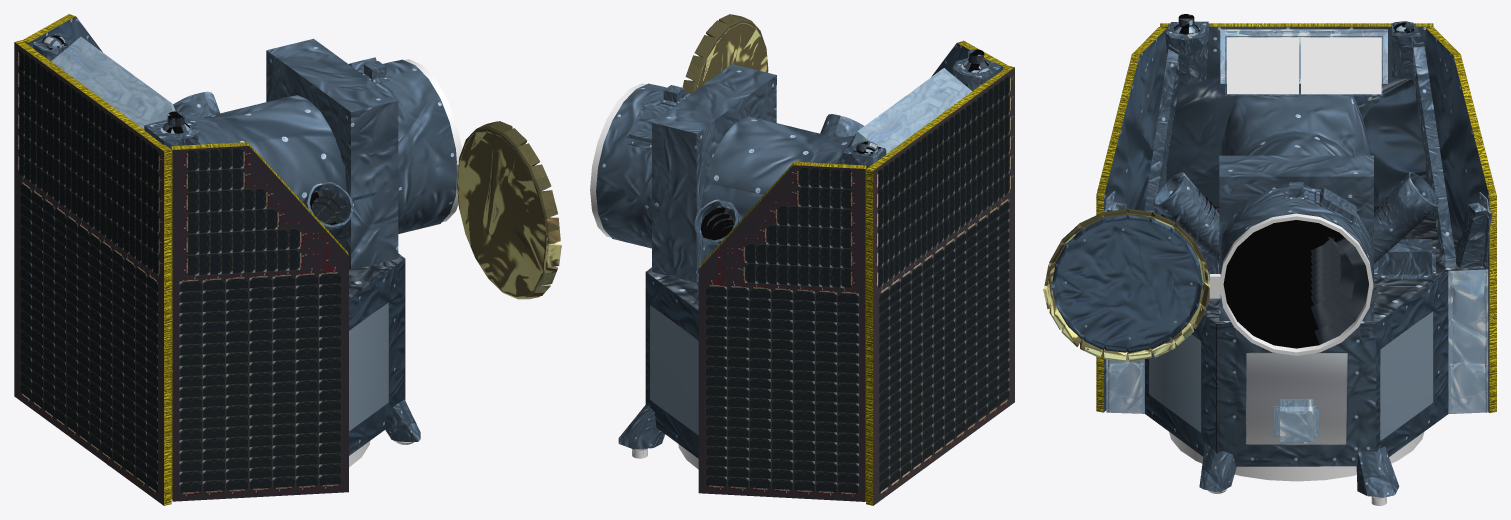
The model's file is cheops.fbx.
The picture shows the model from 3 angles, left to right: view 1: azimuth 30°, elevation 25°; view 2: azimuth 150°, elevation 25°; view 3: azimuth 270°, elevation 25°; orthographic projection. The views are drawn at different scales.
Visible parts, largest first — view 1: CHEOPS_LowPoly polySurface3, CHEOPS_LowPoly polySurface19 polySurface15, CHEOPS_LowPoly pCube19, CHEOPS_LowPoly group4 pCylinder39 polySurface12, CHEOPS_LowPoly pCube32 polySurface22, CHEOPS_LowPoly polySurface15 polySurface17, CHEOPS_LowPoly pCylinder7, CHEOPS_LowPoly pCylinder42, CHEOPS_LowPoly pCylinder19, CHEOPS_LowPoly polySurface15 polySurface16; view 2: CHEOPS_LowPoly polySurface3, CHEOPS_LowPoly polySurface19 polySurface15, CHEOPS_LowPoly pCube19, CHEOPS_LowPoly pCube32 polySurface22, CHEOPS_LowPoly polySurface15 polySurface17, CHEOPS_LowPoly group4 pCylinder39 polySurface12, CHEOPS_LowPoly polySurface15 polySurface16, CHEOPS_LowPoly pCylinder7, CHEOPS_LowPoly pCylinder19, CHEOPS_LowPoly pCylinder35, CHEOPS_LowPoly pCylinder45; view 3: CHEOPS_LowPoly pCube19, CHEOPS_LowPoly polySurface3, CHEOPS_LowPoly pCube32 polySurface22, CHEOPS_LowPoly polySurface11 group4 pCylinder39, CHEOPS_LowPoly pCylinder33, CHEOPS_LowPoly pCube31, CHEOPS_LowPoly polySurface19 polySurface15, CHEOPS_LowPoly pCylinder7, CHEOPS_LowPoly group4 pCylinder39 polySurface12, CHEOPS_LowPoly polySurface15 polySurface17, CHEOPS_LowPoly pCylinder19, pCylinder1 CHEOPS_LowPoly (+2 smaller).
Part boxes in pixels (x1,y1,x2,y2): CHEOPS_LowPoly polySurface3: (14, 14, 348, 505); CHEOPS_LowPoly polySurface19 polySurface15: (266, 38, 398, 269); CHEOPS_LowPoly pCube19: (51, 37, 405, 455); CHEOPS_LowPoly group4 pCylinder39 polySurface12: (456, 121, 561, 299); CHEOPS_LowPoly pCube32 polySurface22: (33, 33, 353, 239); CHEOPS_LowPoly polySurface15 polySurface17: (352, 59, 456, 233); CHEOPS_LowPoly pCylinder7: (385, 399, 420, 441); CHEOPS_LowPoly pCylinder42: (309, 190, 346, 224); CHEOPS_LowPoly pCylinder19: (404, 59, 462, 222); CHEOPS_LowPoly polySurface15 polySurface16: (349, 57, 389, 83); CHEOPS_LowPoly polySurface3: (698, 40, 1014, 505); CHEOPS_LowPoly polySurface19 polySurface15: (652, 64, 776, 282); CHEOPS_LowPoly pCube19: (645, 68, 972, 458); CHEOPS_LowPoly pCube32 polySurface22: (694, 58, 1002, 292); CHEOPS_LowPoly polySurface15 polySurface17: (596, 83, 690, 248); CHEOPS_LowPoly group4 pCylinder39 polySurface12: (682, 14, 768, 93); CHEOPS_LowPoly polySurface15 polySurface16: (627, 85, 686, 149); CHEOPS_LowPoly pCylinder7: (618, 405, 665, 449); CHEOPS_LowPoly pCylinder19: (590, 83, 646, 237); CHEOPS_LowPoly pCylinder35: (701, 207, 735, 240); CHEOPS_LowPoly pCylinder45: (961, 49, 990, 72); CHEOPS_LowPoly pCube19: (1106, 29, 1488, 466); CHEOPS_LowPoly polySurface3: (1096, 23, 1496, 412); CHEOPS_LowPoly pCube32 polySurface22: (1104, 21, 1491, 279); CHEOPS_LowPoly polySurface11 group4 pCylinder39: (1051, 215, 1202, 352); CHEOPS_LowPoly pCylinder33: (1223, 220, 1368, 348); CHEOPS_LowPoly pCube31: (1227, 37, 1381, 94); CHEOPS_LowPoly polySurface19 polySurface15: (1219, 155, 1373, 320); CHEOPS_LowPoly pCylinder7: (1199, 399, 1399, 497); CHEOPS_LowPoly group4 pCylinder39 polySurface12: (1043, 208, 1209, 361); CHEOPS_LowPoly polySurface15 polySurface17: (1219, 187, 1373, 283); CHEOPS_LowPoly pCylinder19: (1219, 213, 1373, 355); pCylinder1 CHEOPS_LowPoly: (1169, 432, 1424, 481).
Size of the model in its own units: 1301 by 1548 by 1677.
Materials: 9 (6 with a texture image).
